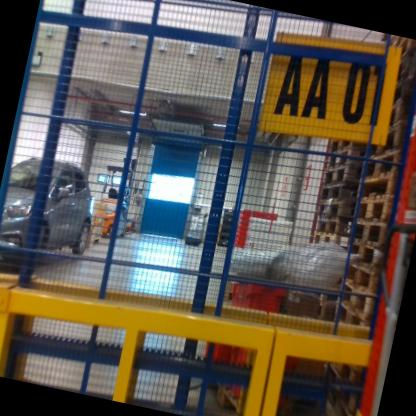forklift: (94, 162, 126, 236)
pallet: (317, 360, 364, 414), (334, 280, 377, 325), (358, 146, 400, 185), (331, 300, 372, 338), (355, 170, 397, 207), (341, 262, 380, 299), (345, 241, 384, 277), (352, 194, 393, 228), (375, 116, 408, 153), (350, 220, 388, 250), (310, 232, 352, 258), (313, 217, 353, 243), (387, 92, 412, 133), (320, 164, 359, 190), (320, 179, 357, 206), (315, 201, 353, 224), (325, 147, 360, 169), (327, 137, 363, 156), (336, 362, 365, 385), (405, 167, 416, 209)
pallet_truck: (347, 220, 416, 416)
small_load_carrier: (211, 312, 308, 416), (222, 266, 293, 326), (192, 314, 232, 383)
